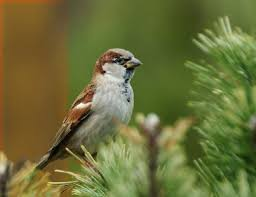hsparrow: (32, 46, 149, 189)
